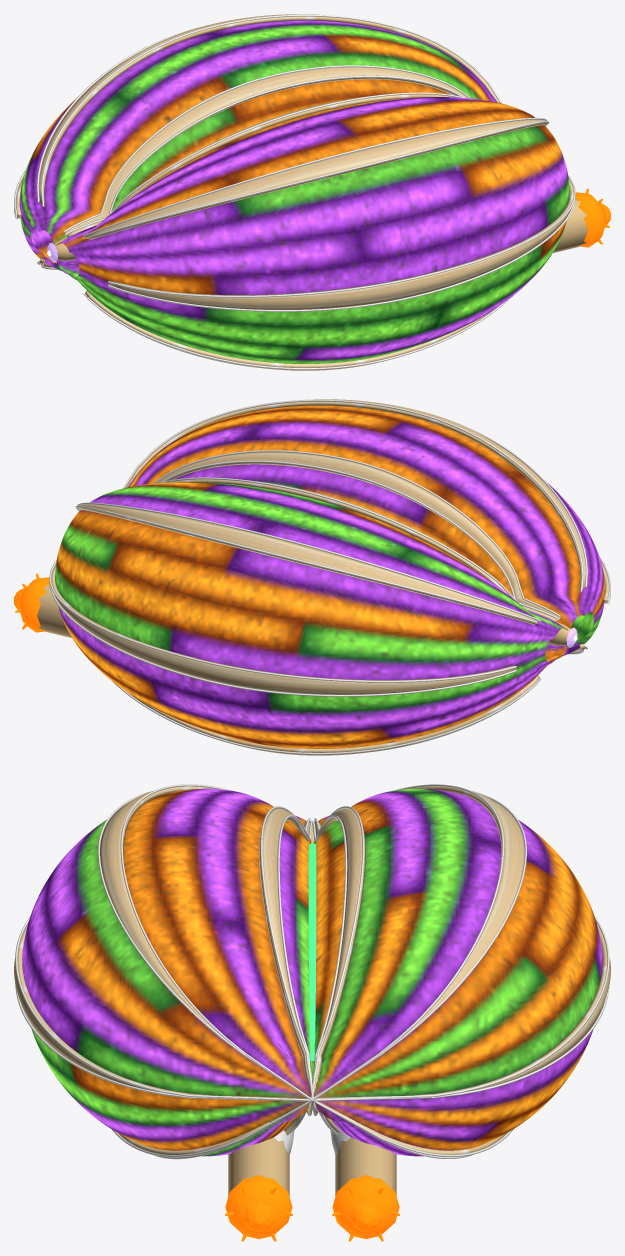
The model's file is ithar_GW4.gltf.
3 renders of one model, top to bottom at view 1: azimuth 30°, elevation 25°; view 2: azimuth 150°, elevation 25°; view 3: azimuth 270°, elevation 25°, orthographic. The views are drawn at different scales.
Visible parts, largest first — view 1: ithar_GW4; view 2: ithar_GW4; view 3: ithar_GW4.
Boxes of the visible parts, x1=… form: ithar_GW4: x1=14, y1=14, x2=610, y2=370; ithar_GW4: x1=14, y1=399, x2=610, y2=755; ithar_GW4: x1=14, y1=784, x2=610, y2=1241.
Bounding box in the file's own units: 1 × 0.3912 × 0.8154.
Materials: 6 (2 with a texture image).
